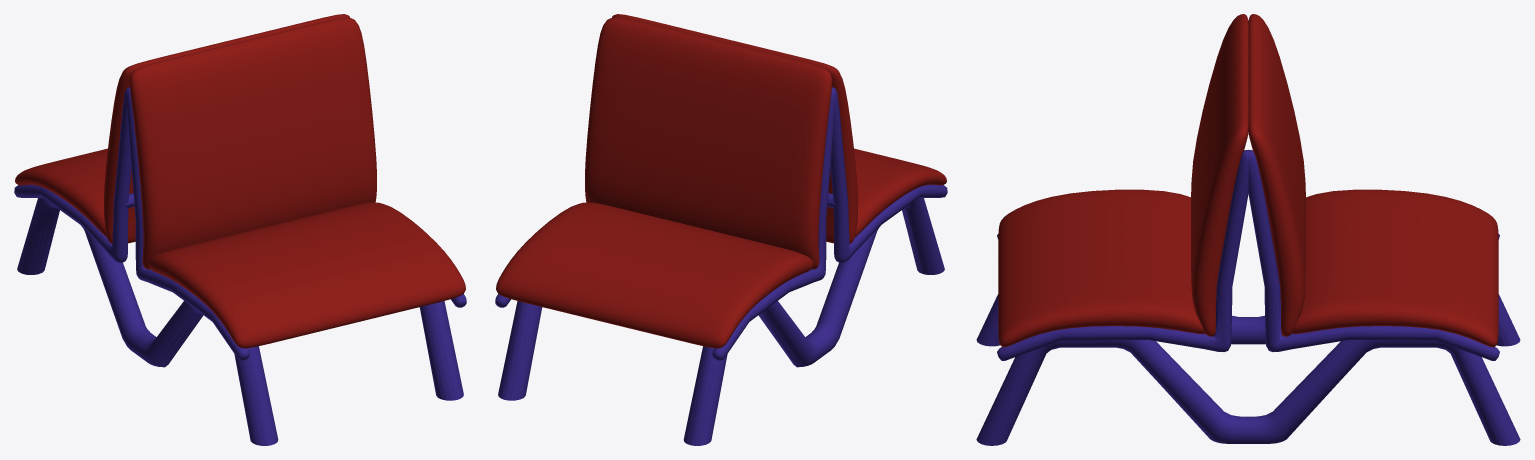
File: ChairBakctoBack.fbx
3 renders of one model, left to right at view 1: azimuth 30°, elevation 25°; view 2: azimuth 150°, elevation 25°; view 3: azimuth 270°, elevation 25°, orthographic. The views are drawn at different scales.
Parts seen in each view (by area): view 1: ChairIndividual01.001; view 2: ChairIndividual01.001; view 3: ChairIndividual01.001.
Part boxes in pixels (<box>): ChairIndividual01.001: <box>14,14,466,445</box>; ChairIndividual01.001: <box>495,14,947,445</box>; ChairIndividual01.001: <box>976,14,1520,445</box>.
Size of the model in its own units: 2.14 by 2.58 by 3.98.
Materials: 1 (1 with a texture image).
